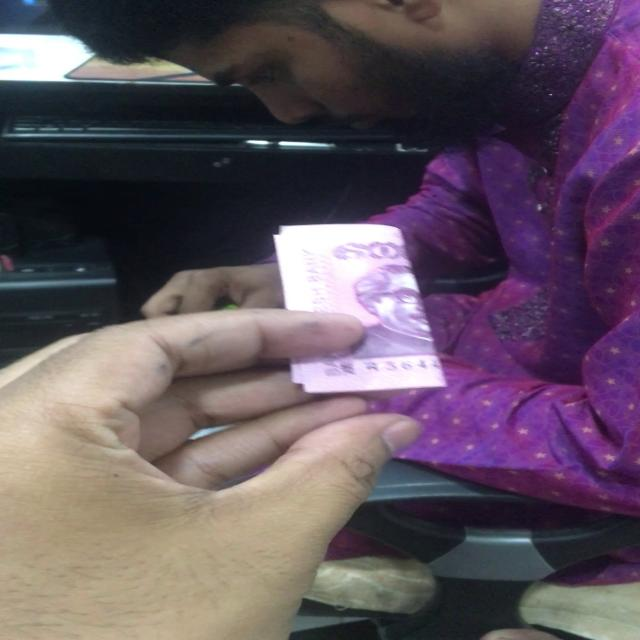Taka: (274, 221, 446, 397)
